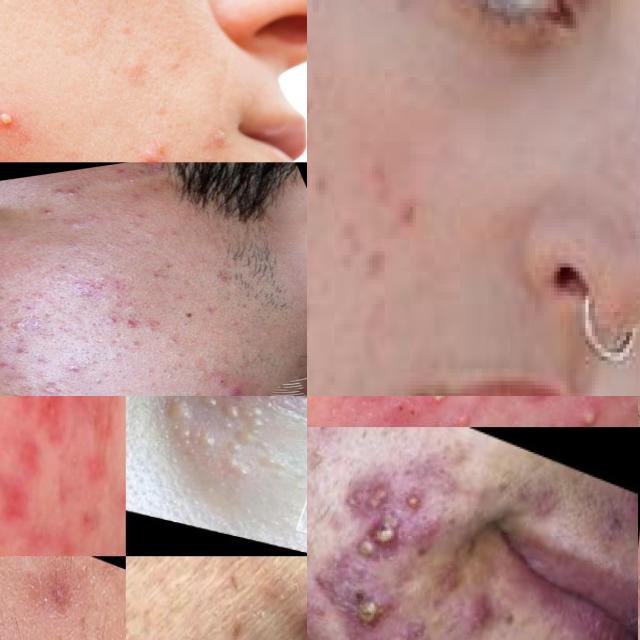acne_scars: (26, 396, 97, 454), (0, 463, 36, 533), (69, 496, 104, 556), (0, 396, 42, 420)
comedone: (286, 575, 307, 640), (64, 214, 112, 241), (0, 619, 42, 640), (38, 259, 77, 281), (45, 180, 85, 201), (119, 172, 148, 190), (138, 321, 163, 337), (138, 230, 164, 243), (124, 338, 147, 352)
cystic: (439, 575, 531, 640)
papule: (583, 396, 637, 426), (438, 396, 486, 427), (124, 140, 187, 162), (212, 382, 269, 396), (17, 389, 54, 396)
pustule: (0, 82, 63, 162), (558, 396, 619, 427), (416, 396, 462, 424)
sebo-crystan-conglo: (328, 448, 454, 569), (307, 542, 414, 640), (312, 396, 415, 419), (558, 396, 622, 427), (0, 314, 38, 337)
syringoma: (193, 432, 260, 480), (219, 396, 273, 437), (150, 396, 201, 423), (198, 396, 224, 413)
